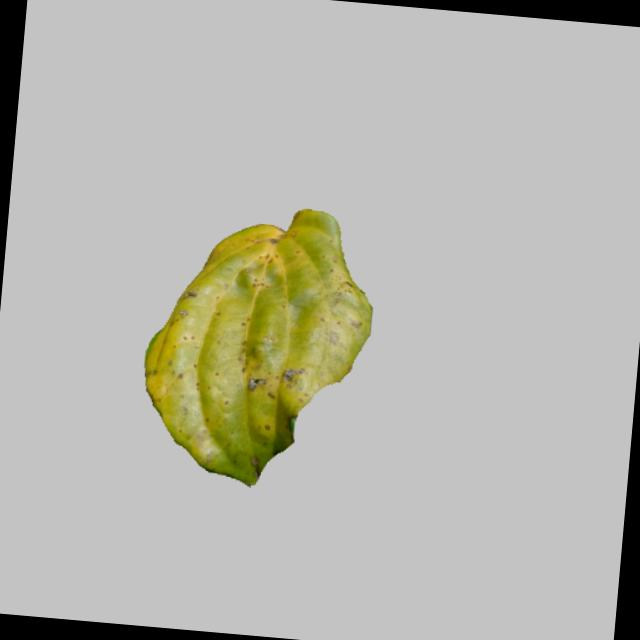yellow-mottle-virus: (126, 195, 380, 492)
